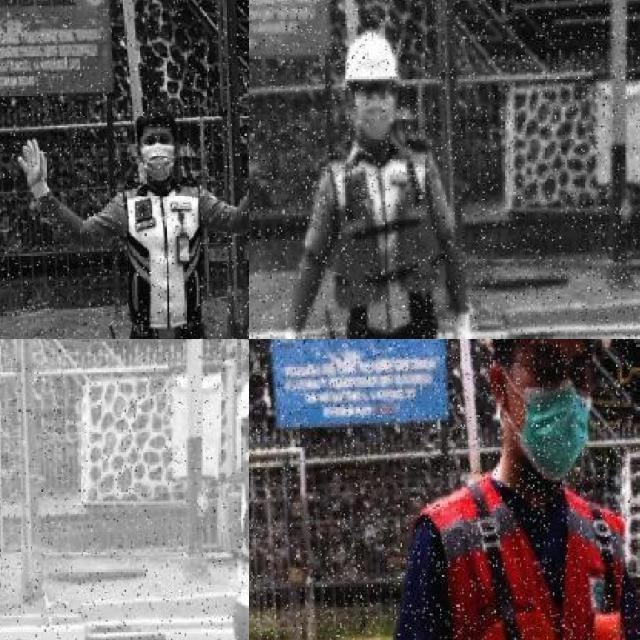apron: (16, 136, 52, 203), (453, 305, 477, 339), (278, 321, 307, 339)
